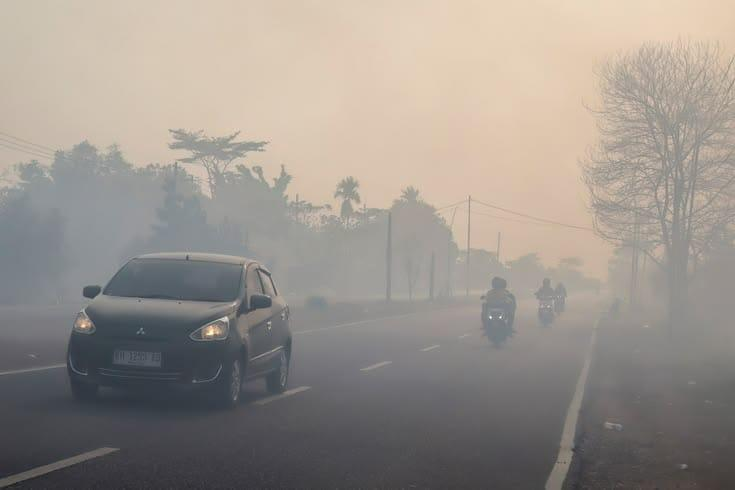Deteksi-Objek-Citra-Berasap: (0, 0, 734, 352)
Kendaraan: (67, 252, 294, 411), (482, 299, 515, 350), (536, 297, 558, 327), (555, 297, 567, 316)
Manusia: (480, 276, 517, 324), (534, 278, 561, 309), (554, 281, 567, 304)
Vegetasi: (0, 127, 309, 282), (578, 35, 734, 301), (382, 185, 460, 292), (331, 175, 366, 236)
